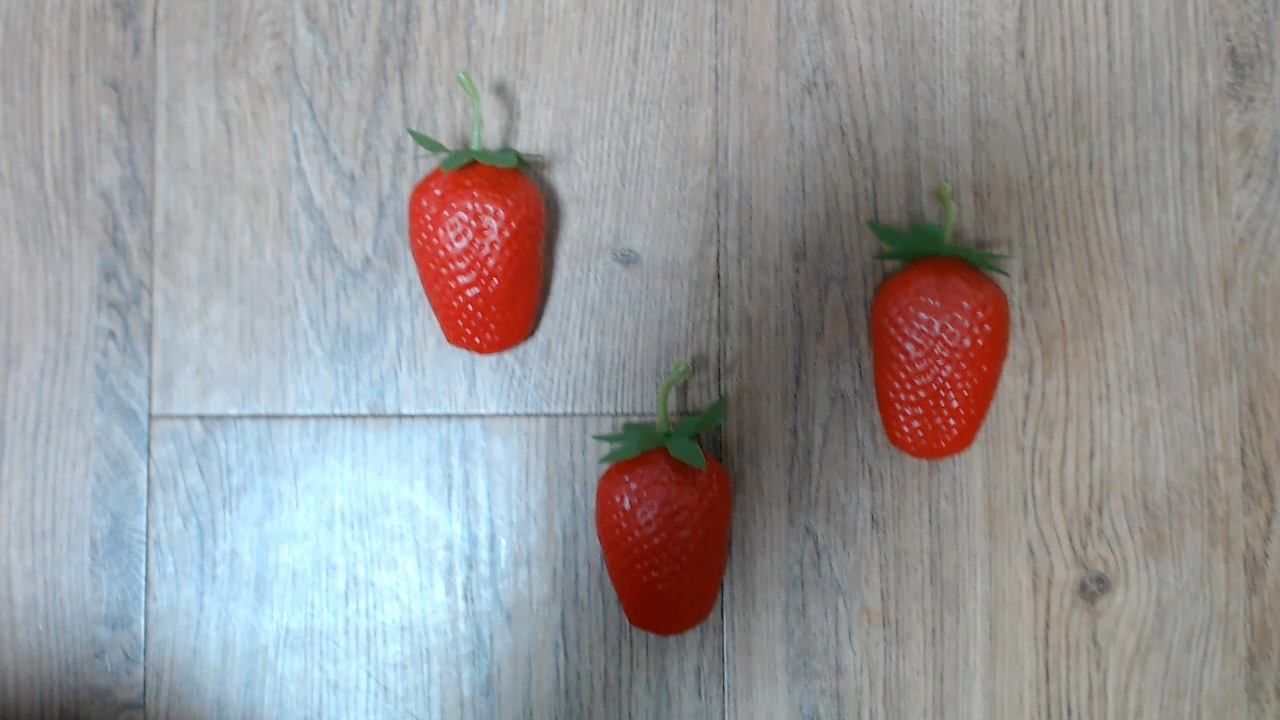strawberry: (844, 226, 1015, 458), (581, 404, 746, 644), (397, 130, 561, 364)
